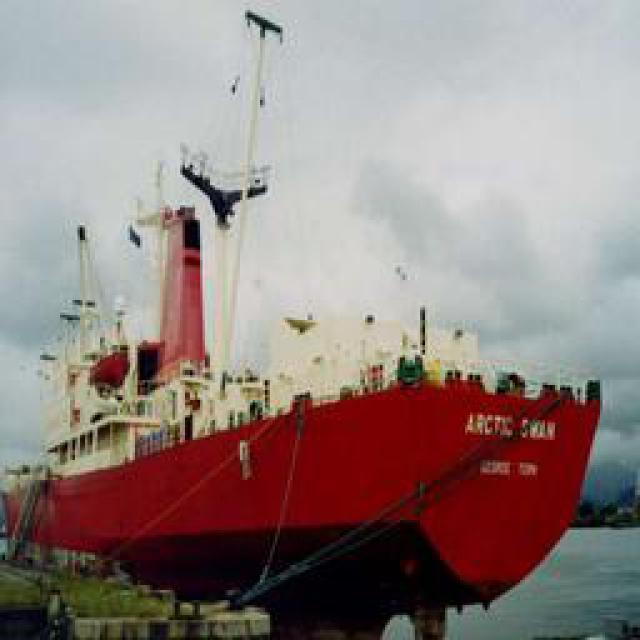Ship: (5, 7, 609, 620)
